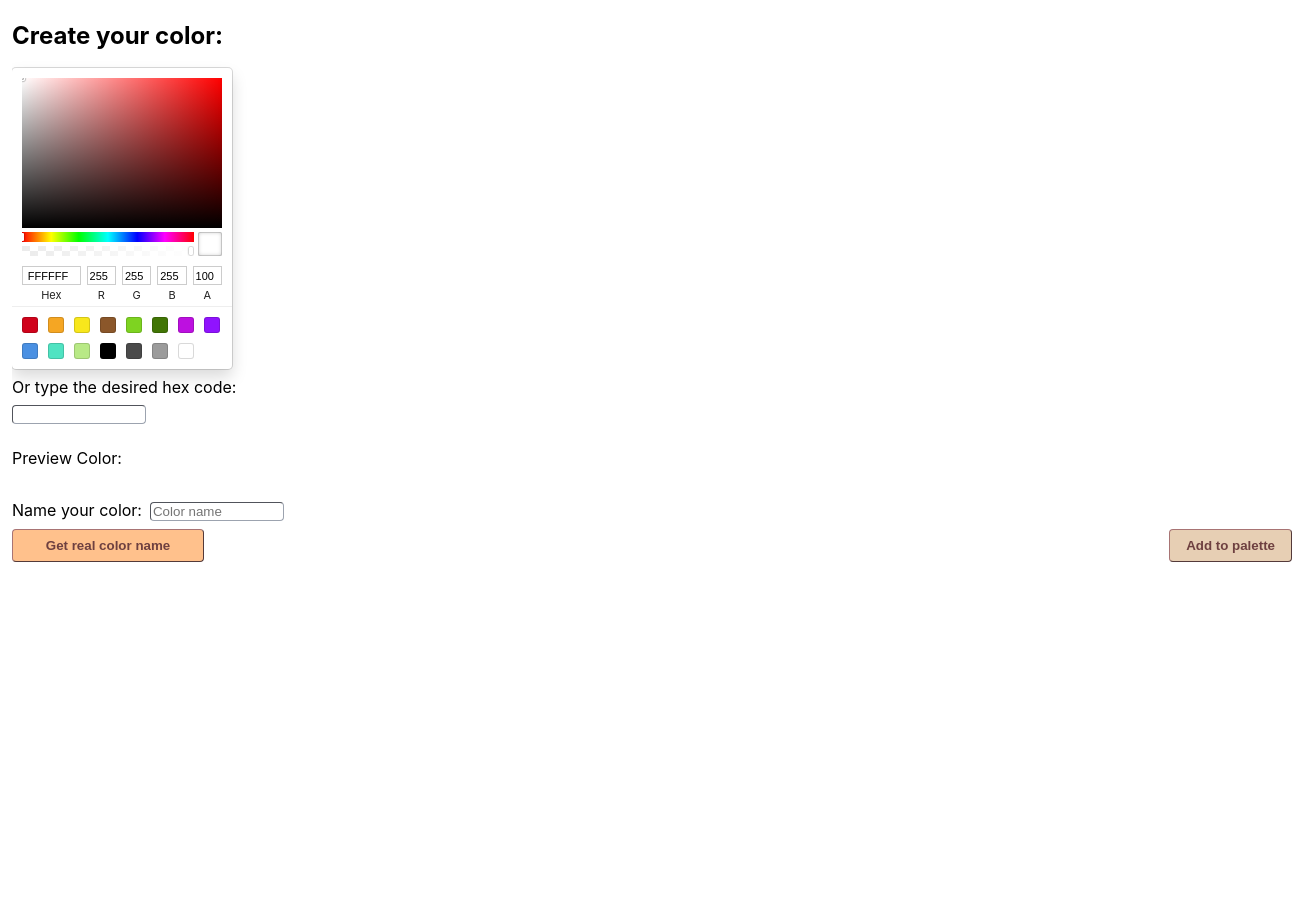
Test: should render ColorCreator component › should display error if color name already exists
This screenshot has width=1304, height=900.
Type "Black" into the field with test id "name-input" at (217, 511), box [150, 502, 284, 521]
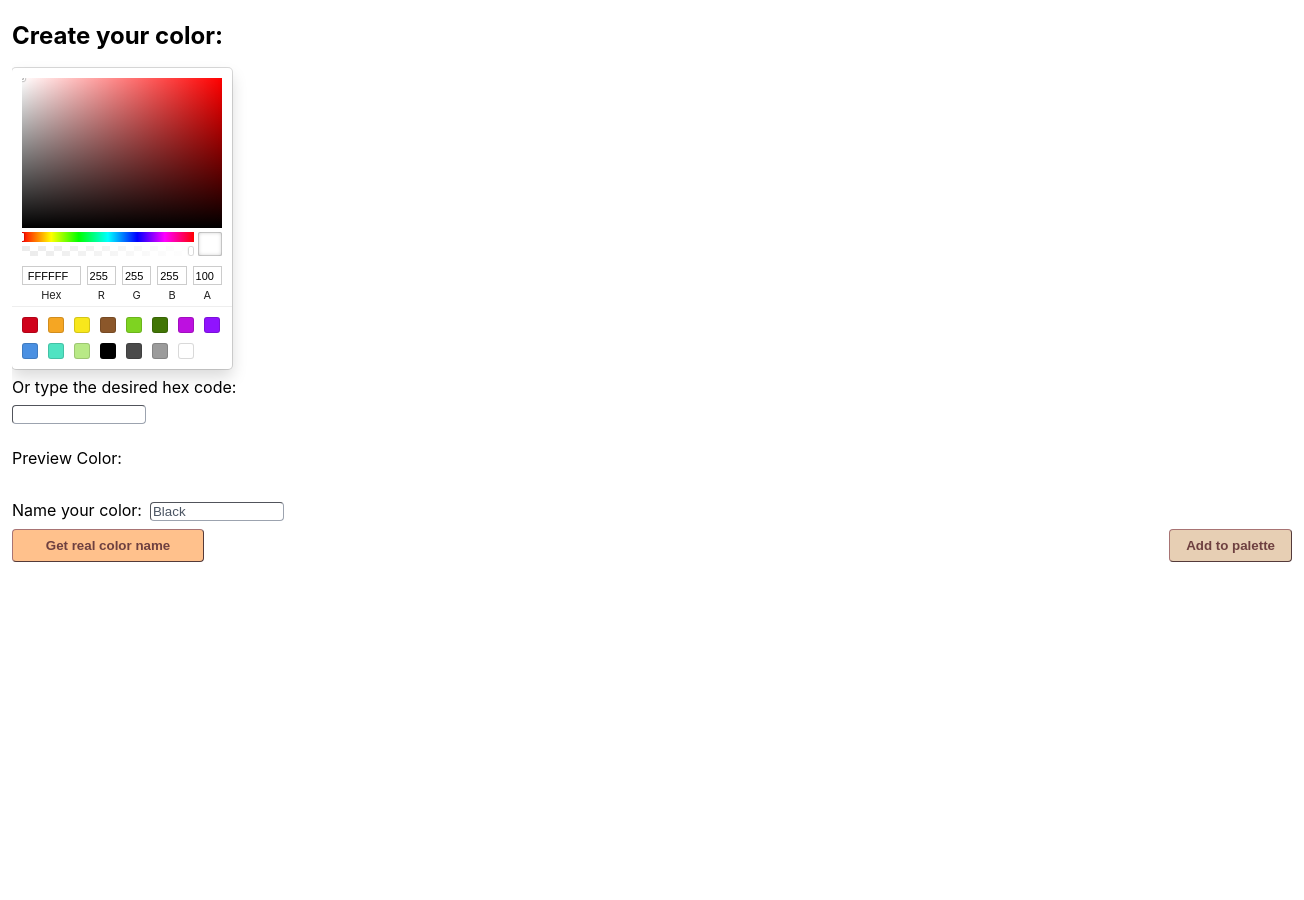
Type "000" into the field with test id "hex-input" at (79, 414), box [12, 405, 146, 424]
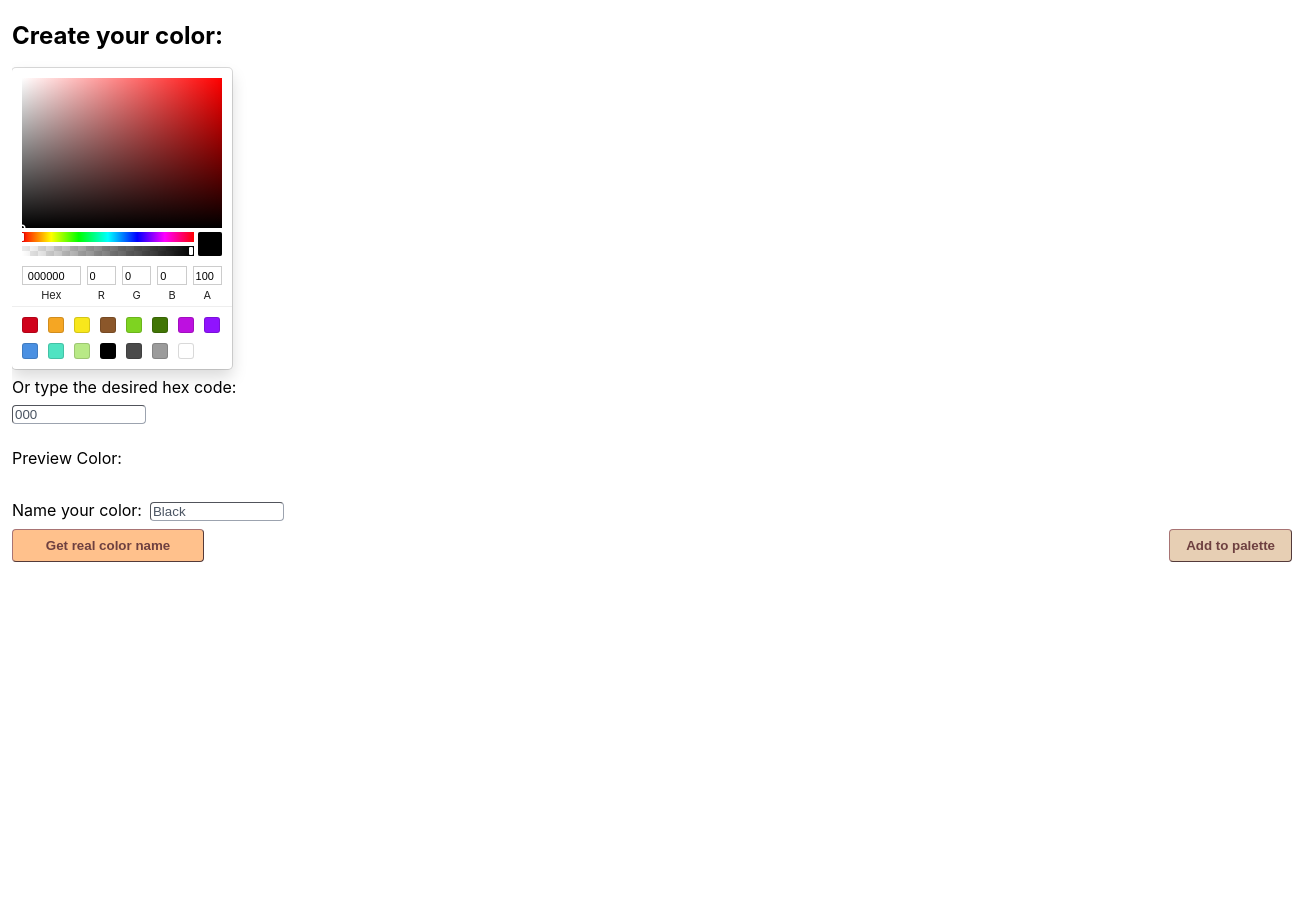
Click the button with test id "add-btn" at (1231, 545), box [1169, 529, 1292, 562]
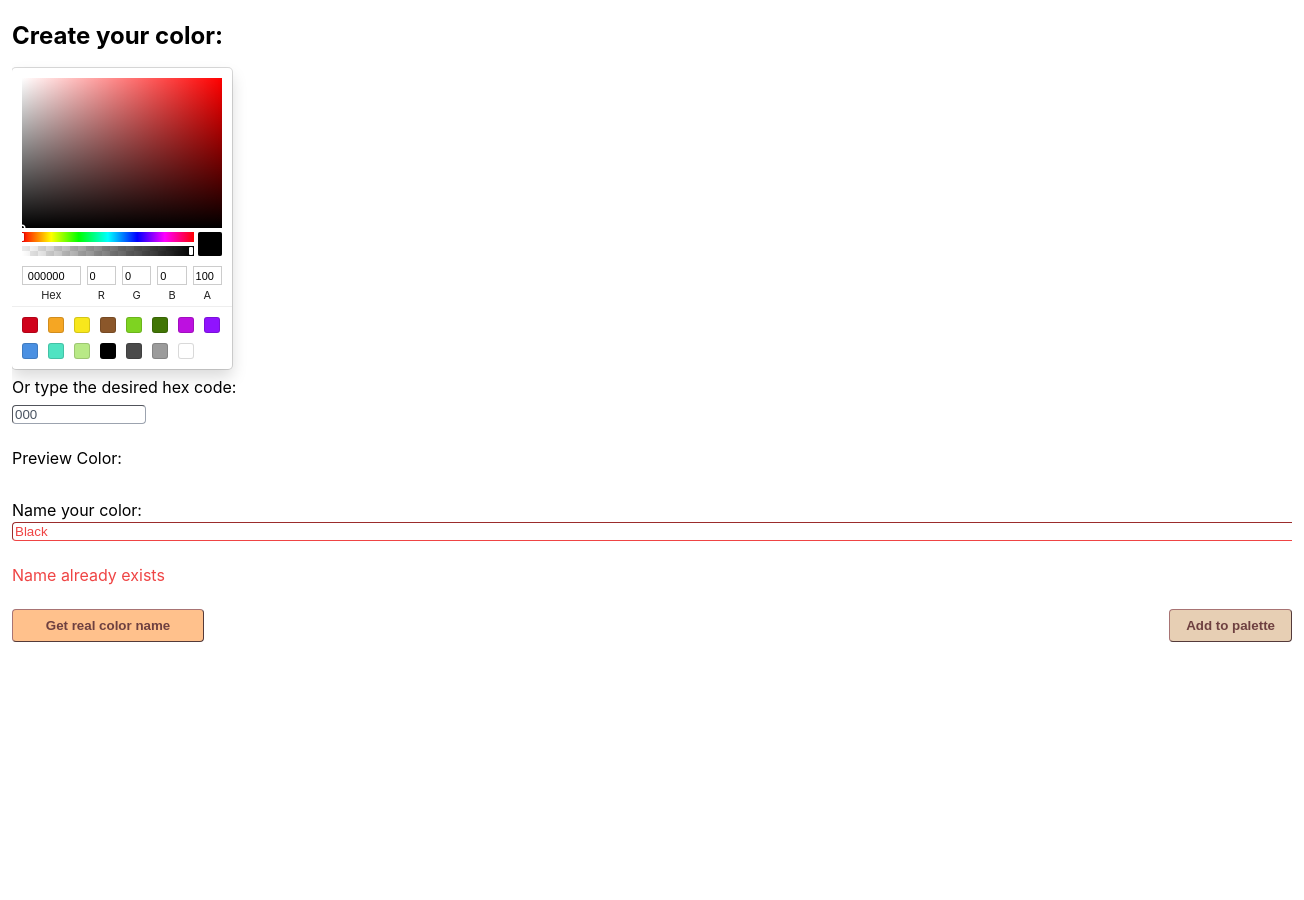
Check: the text "Name already exists" is shown, box [12, 565, 165, 585]
